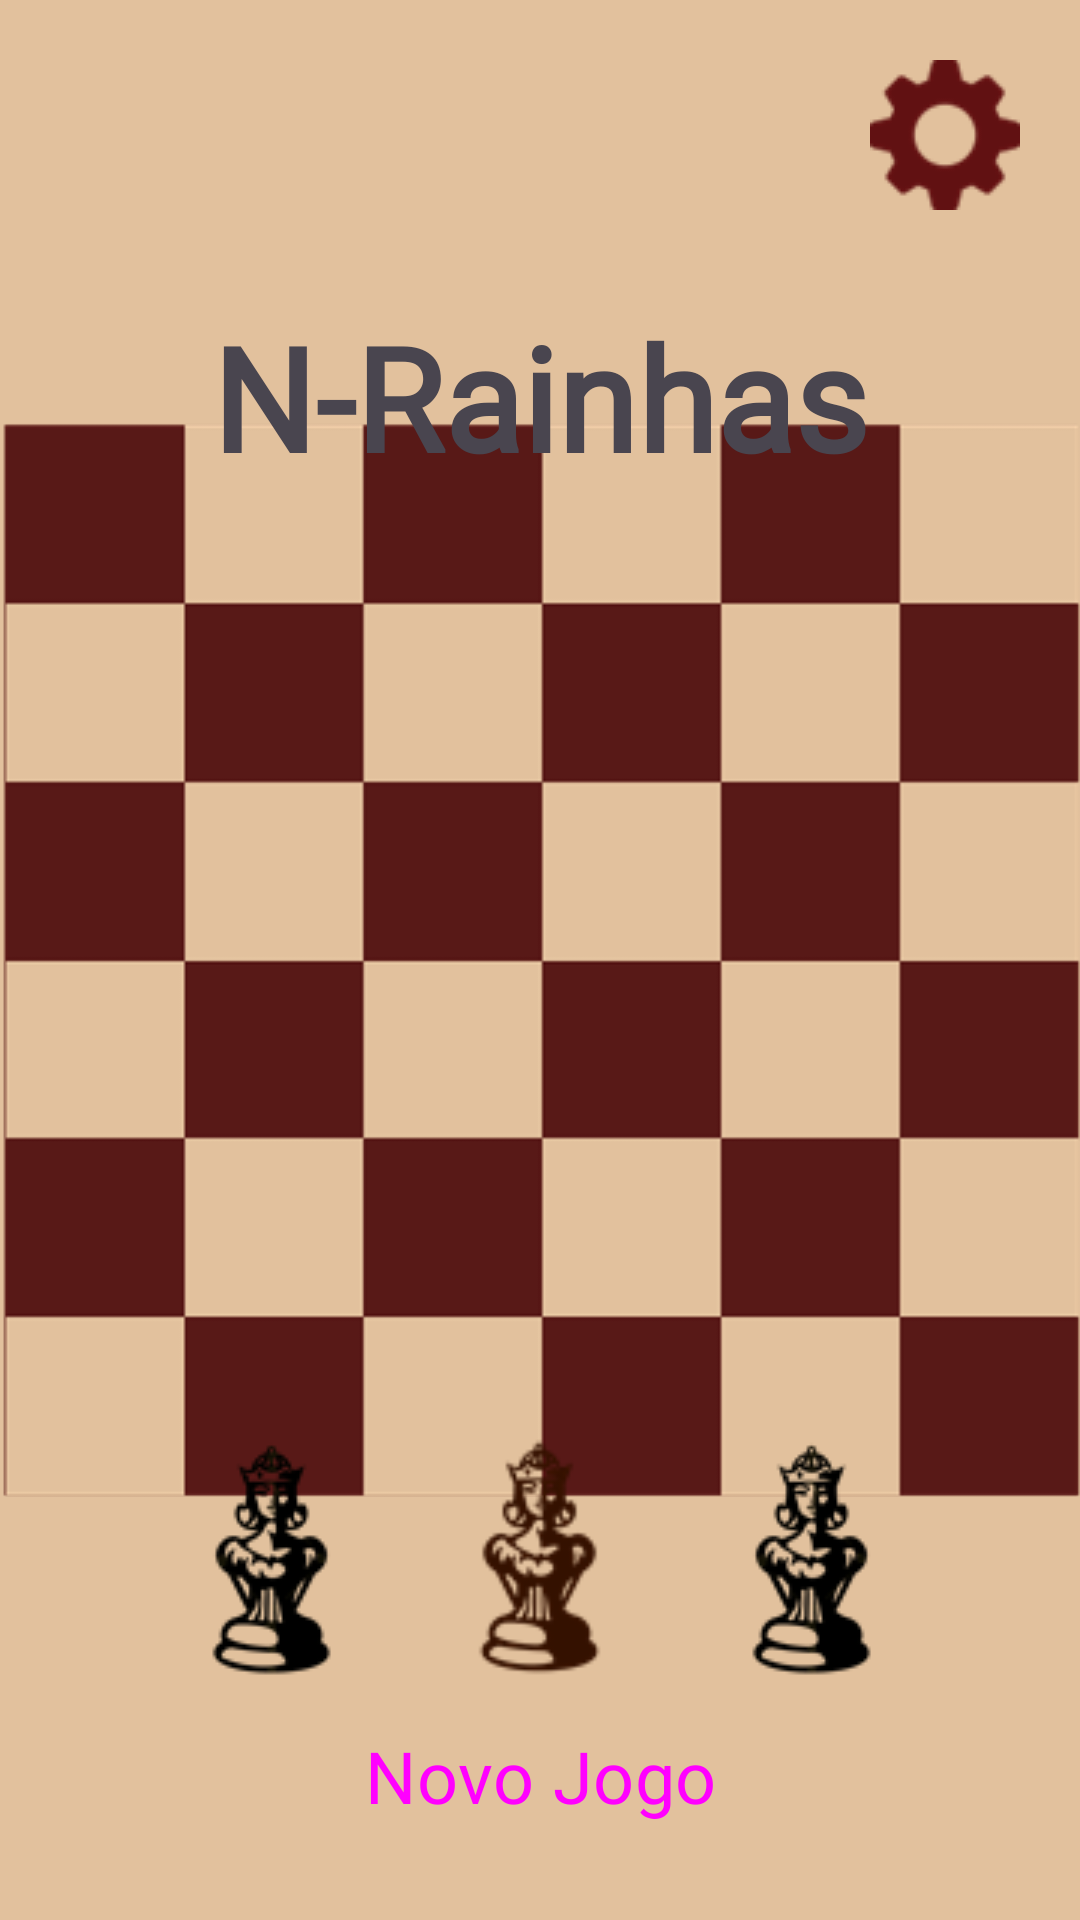

Locate icon controls on the screen. Image size 1080px x 1920px, boxes as (x1, y1, x2, y2).
engrenagem: (870, 60, 1020, 210)
rainha preta: (183, 1410, 365, 1675), (752, 1445, 871, 1675)
